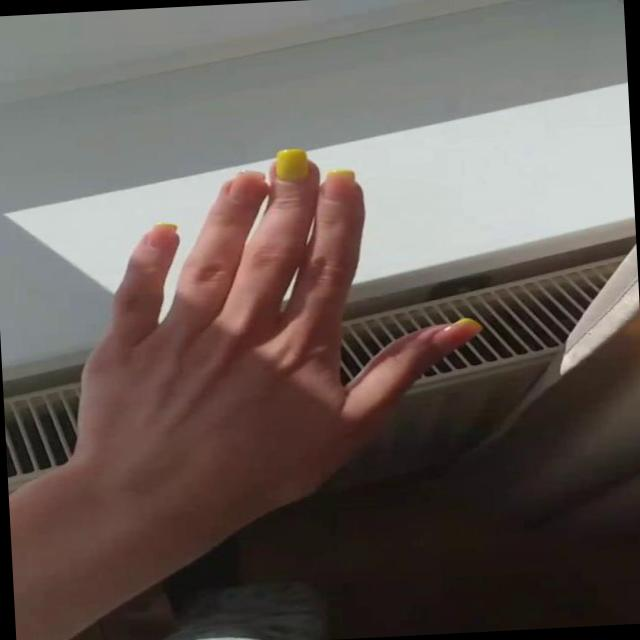Nail: (432, 317, 482, 357), (275, 148, 310, 182), (229, 173, 266, 205), (323, 170, 355, 200), (148, 223, 177, 249)
